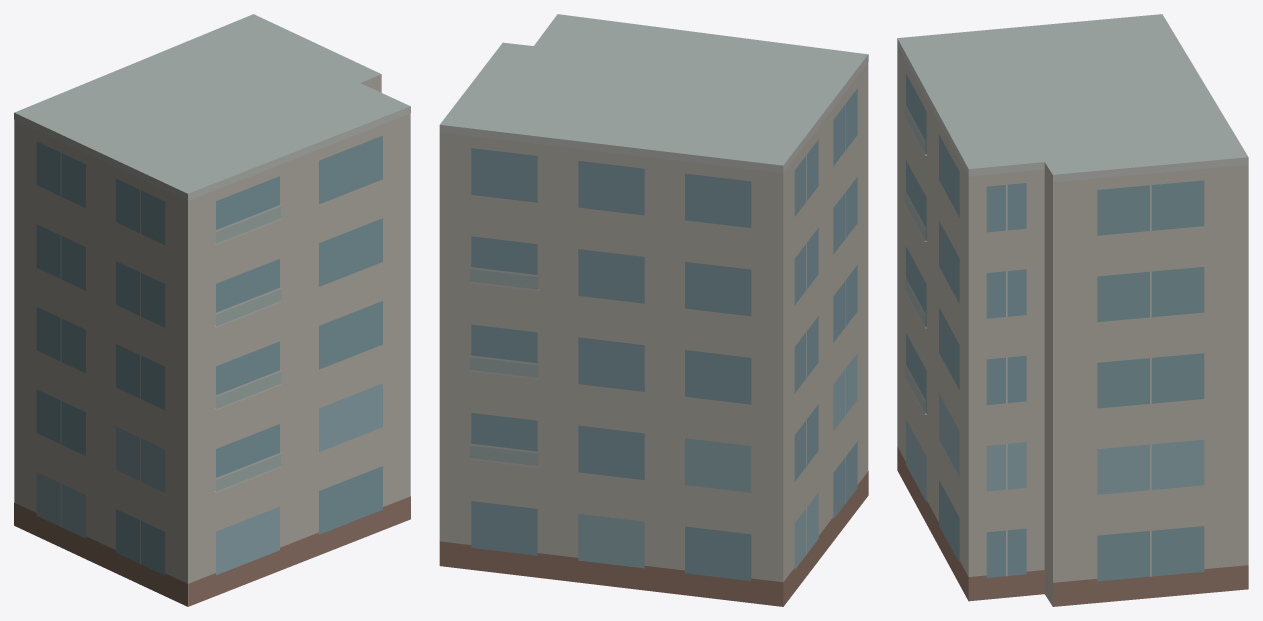
Rendered from survey-upis-32493590.glb.
3 views of the same model, side by side, from view 1: azimuth 30°, elevation 25°; view 2: azimuth 150°, elevation 25°; view 3: azimuth 270°, elevation 25° (orthographic). The views are drawn at different scales.
Parts seen in each view (by area): view 1: survey-upis-32493590.tmp; view 2: survey-upis-32493590.tmp; view 3: survey-upis-32493590.tmp.
Part boxes in pixels (bbox=[...]): survey-upis-32493590.tmp: bbox=[14, 14, 410, 606]; survey-upis-32493590.tmp: bbox=[439, 14, 868, 606]; survey-upis-32493590.tmp: bbox=[897, 14, 1248, 606].
Size of the model in its own units: 11.34 by 14.2 by 10.47.
